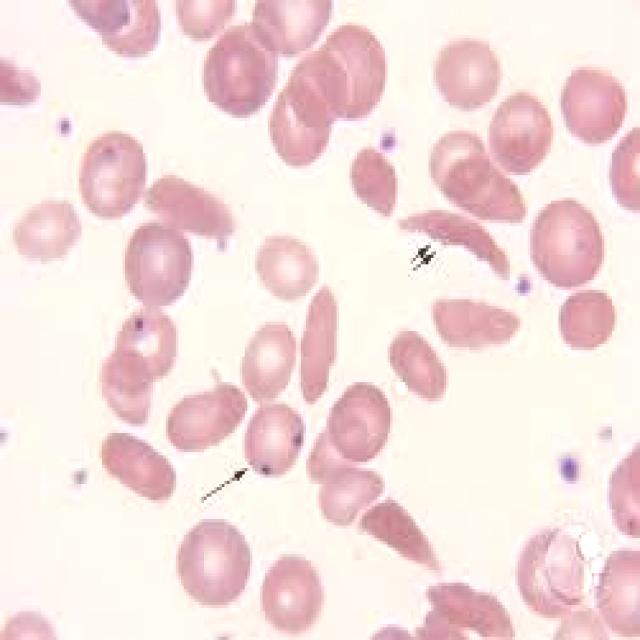RBC: (201, 22, 306, 118), (510, 513, 592, 627), (171, 516, 260, 618), (316, 16, 395, 127), (157, 377, 259, 460), (86, 424, 188, 506), (120, 216, 201, 318), (523, 194, 609, 287), (324, 366, 398, 468), (482, 86, 561, 181), (258, 76, 336, 172), (107, 296, 184, 392), (556, 57, 635, 150), (385, 318, 459, 414), (76, 127, 148, 223), (255, 544, 331, 634), (235, 312, 306, 404), (431, 29, 505, 114), (3, 195, 89, 268), (89, 344, 161, 430), (418, 121, 495, 201), (286, 54, 357, 137), (240, 392, 311, 474), (311, 458, 388, 532), (546, 286, 622, 359), (252, 230, 326, 300), (255, 0, 341, 57), (89, 0, 165, 60), (174, 0, 242, 51)
sickle cell: (393, 200, 520, 290), (132, 166, 250, 252), (293, 280, 347, 417)
